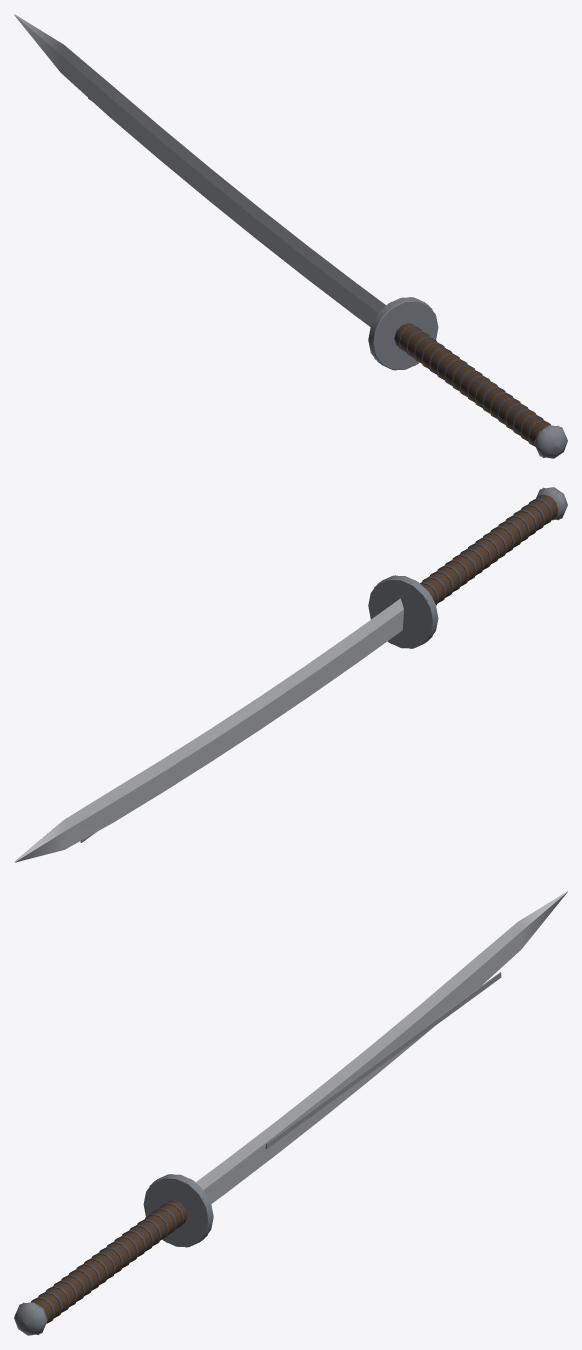
The model's file is katana.glb.
3 renders of one model, top to bottom at view 1: azimuth 30°, elevation 25°; view 2: azimuth 150°, elevation 25°; view 3: azimuth 330°, elevation 25°, orthographic.
Parts seen in each view (by area): view 1: L0, L1; view 2: L0, L1; view 3: L0, L1.
Part boxes in pixels (<box>): L0: <box>14,14,567,458</box>; L1: <box>374,297,566,457</box>; L0: <box>14,487,567,862</box>; L1: <box>374,487,559,648</box>; L0: <box>14,891,567,1335</box>; L1: <box>15,1174,207,1334</box>.
Size of the model in its own units: 0.07 by 0.0764 by 0.9998.
